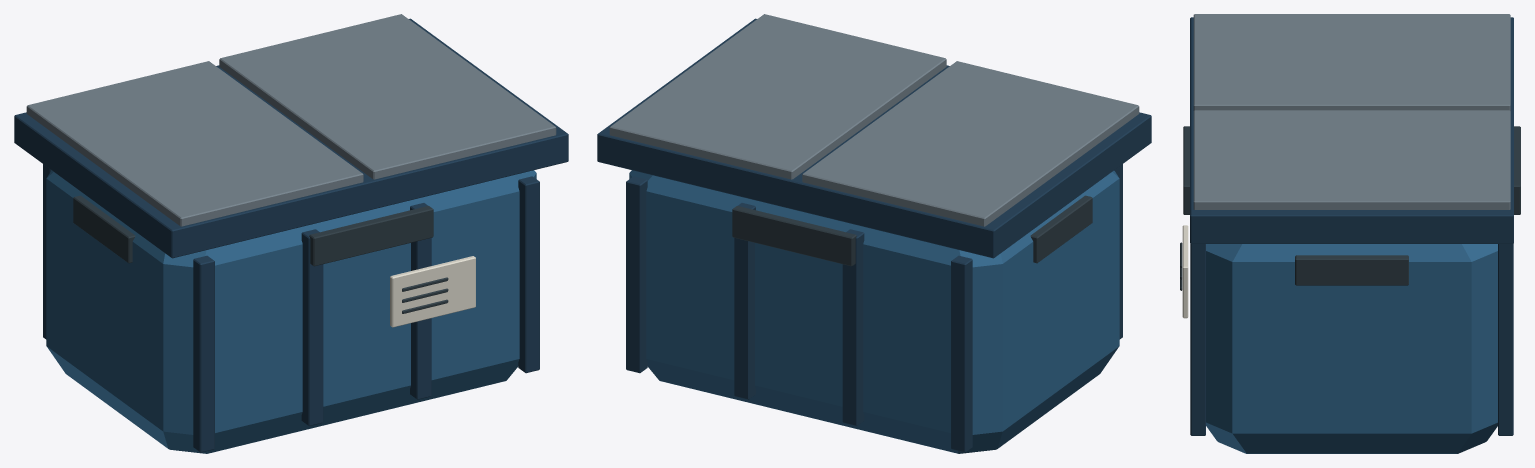
Rendered from b14_stackable_attached_lid_delivery_tote.glb.
The picture shows the model from 3 angles, left to right: view 1: azimuth 30°, elevation 25°; view 2: azimuth 150°, elevation 25°; view 3: azimuth 270°, elevation 25°; orthographic projection. The views are drawn at different scales.
Parts seen in each view (by area): view 1: b14_stackable_attached_lid_delivery_tote; view 2: b14_stackable_attached_lid_delivery_tote; view 3: b14_stackable_attached_lid_delivery_tote.
Boxes of the visible parts, x1,y1,x2,y2 form: b14_stackable_attached_lid_delivery_tote: (14, 14, 568, 453); b14_stackable_attached_lid_delivery_tote: (597, 14, 1151, 453); b14_stackable_attached_lid_delivery_tote: (1180, 14, 1520, 453).
Size of the model in its own units: 0.66 by 0.403 by 0.4785.
